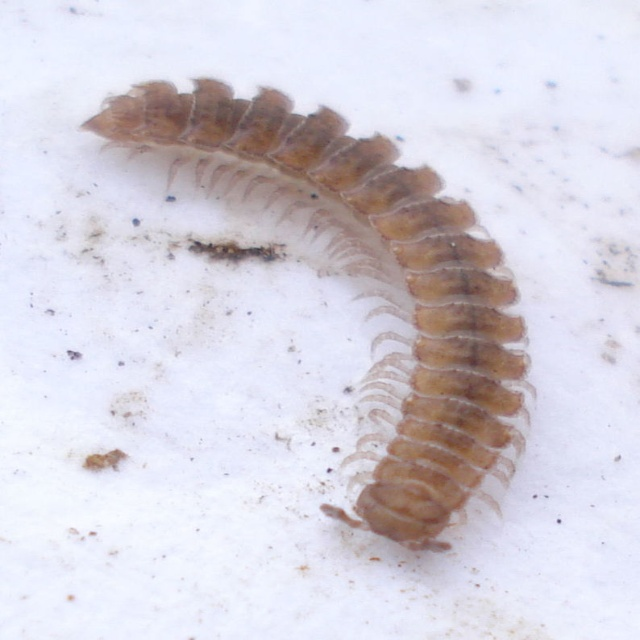Centipede: (78, 76, 538, 552)
